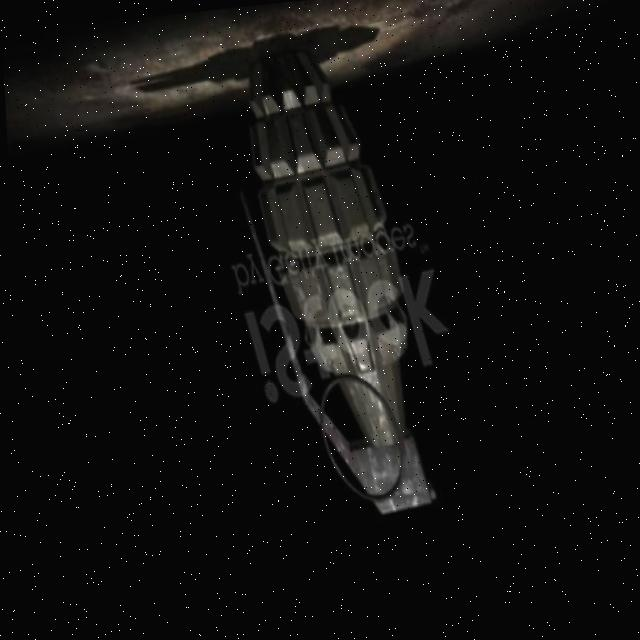grenade: (206, 38, 459, 529)
